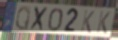2: (62, 7, 81, 34)
K: (95, 11, 111, 36), (79, 10, 95, 35)
O: (47, 7, 64, 33)
Q: (14, 5, 31, 32)
X: (29, 6, 50, 32)
